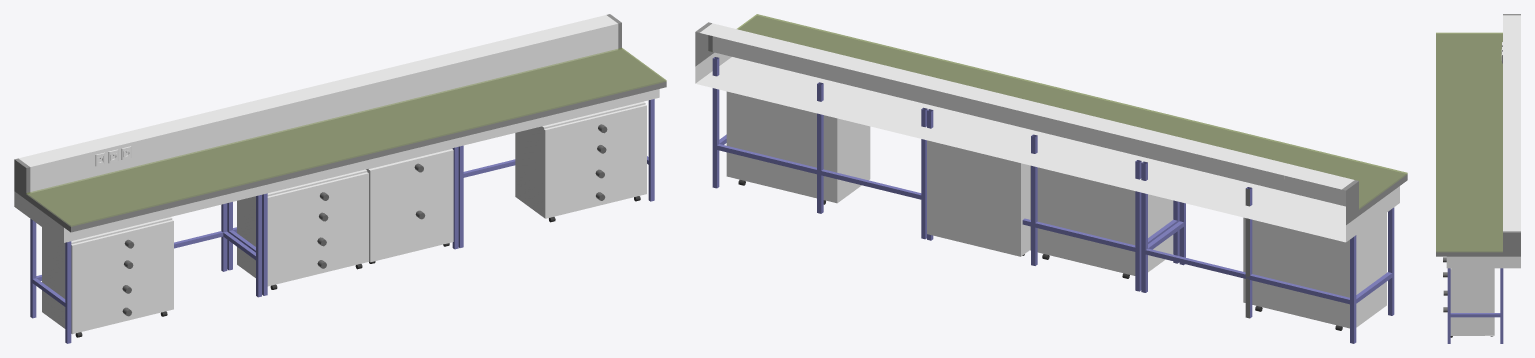
Rendered from paillasse_mur.fbx.
3 views of the same model, side by side, from view 1: azimuth 30°, elevation 25°; view 2: azimuth 150°, elevation 25°; view 3: azimuth 270°, elevation 25° (orthographic). The views are drawn at different scales.
Parts seen in each view (by area): view 1: Group_091; view 2: Group_091; view 3: Group_091.
Boxes of the visible parts, x1,y1,x2,y2 form: Group_091: [14, 14, 666, 343]; Group_091: [695, 14, 1407, 343]; Group_091: [1436, 14, 1520, 343].
Size of the model in its own units: 459 by 110 by 75.35.
